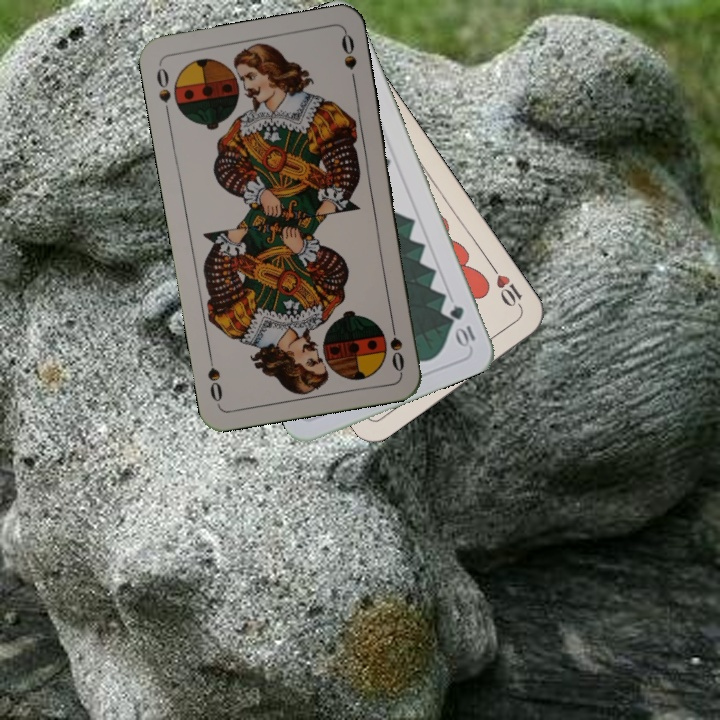G10: (445, 301, 478, 350)
H10: (487, 261, 526, 313)
SO: (152, 61, 174, 120), (386, 315, 407, 374)
